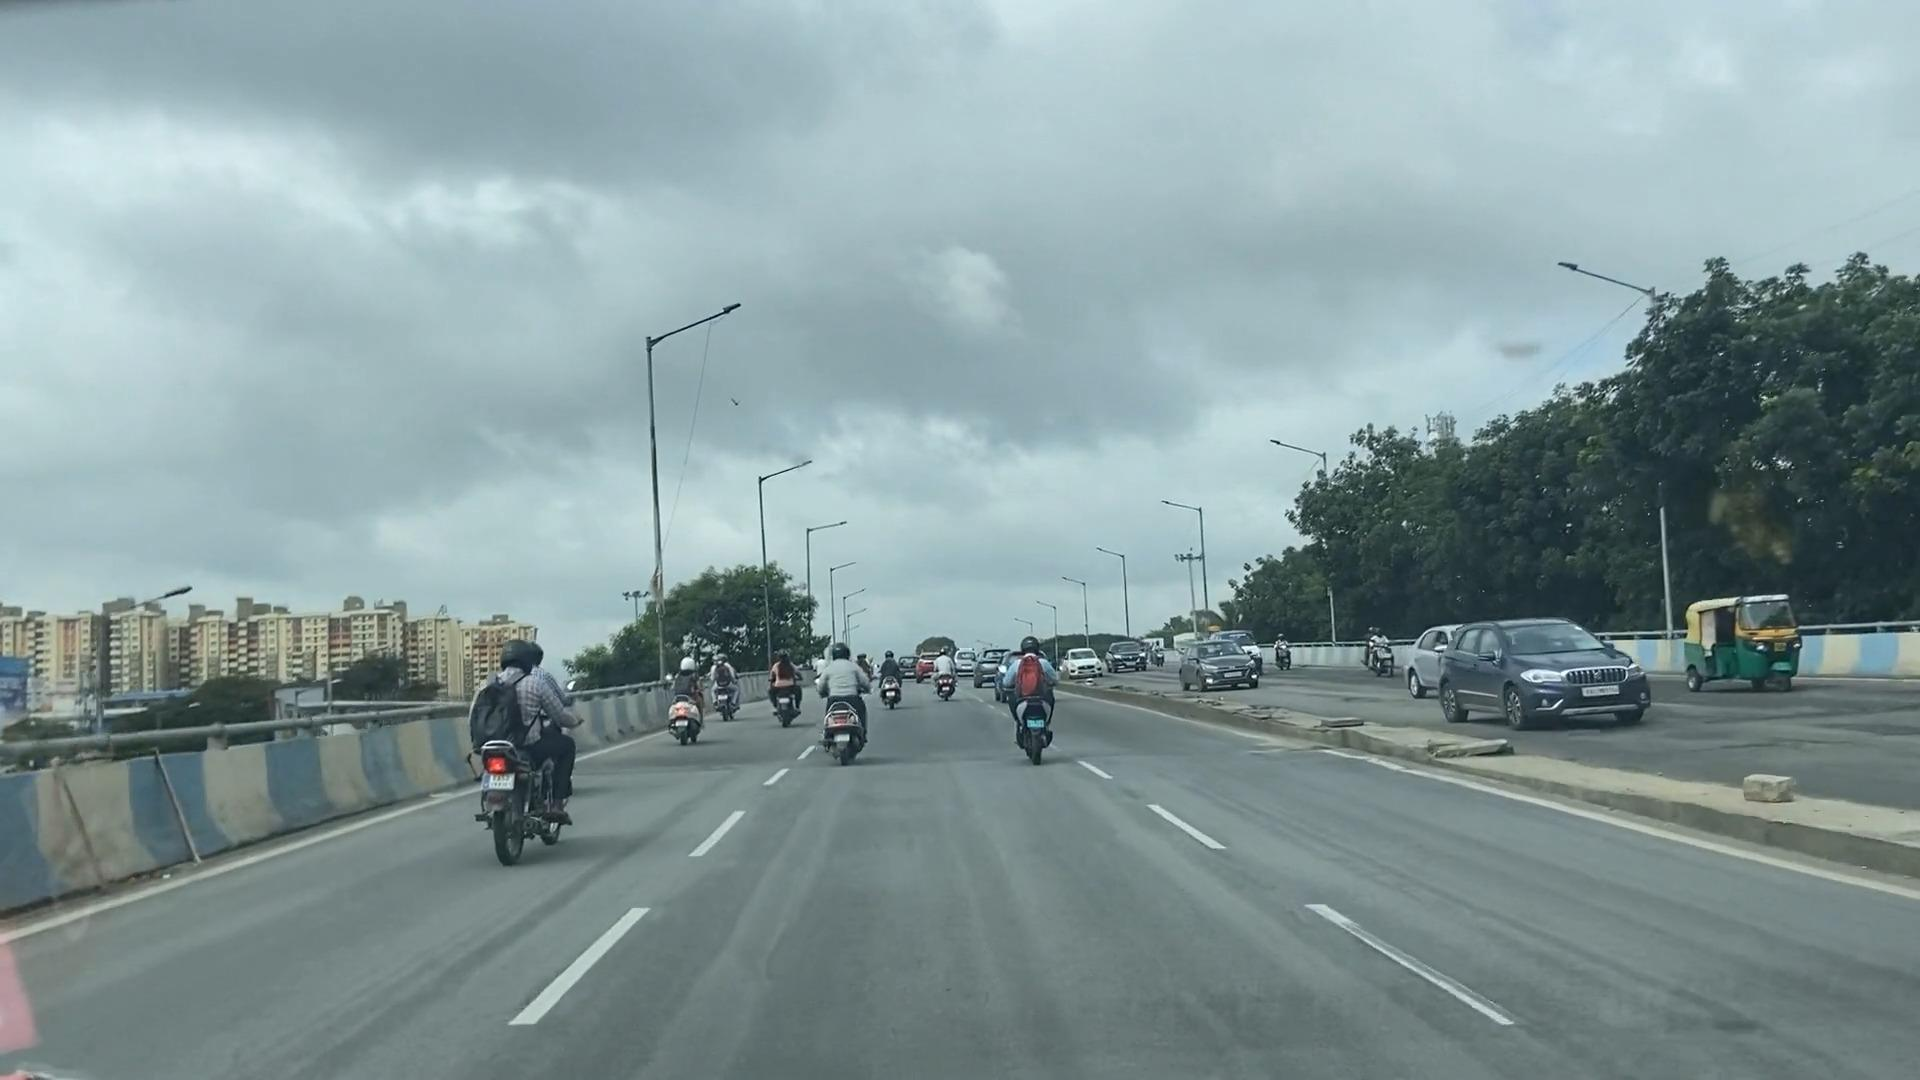LMV: (480, 632, 578, 869), (1011, 638, 1068, 766), (822, 636, 870, 765), (654, 642, 702, 753), (764, 636, 802, 731), (708, 646, 742, 725)
